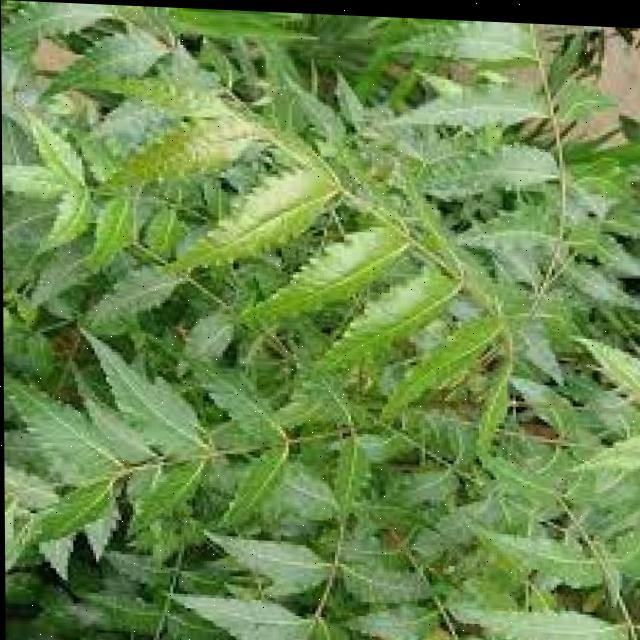Wet: (0, 11, 640, 640)
